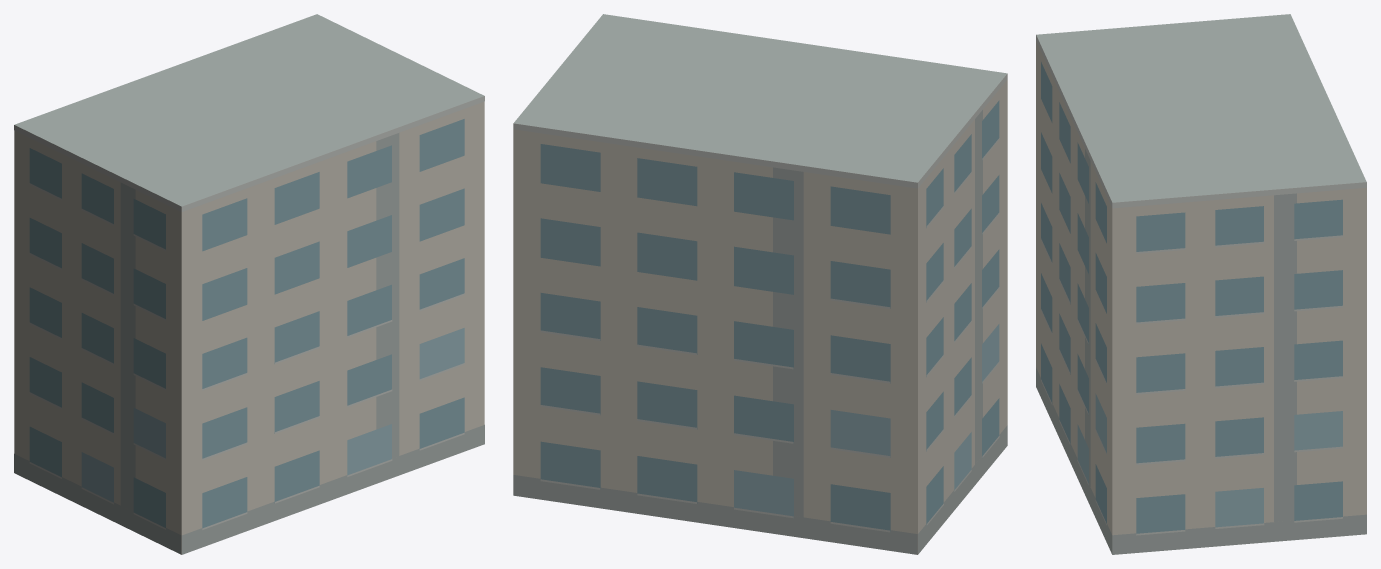
File: residential-e0737a31-0e31-47bd-801c-4a95fc2f8885.glb
3 views of the same model, side by side, from view 1: azimuth 30°, elevation 25°; view 2: azimuth 150°, elevation 25°; view 3: azimuth 270°, elevation 25° (orthographic). The views are drawn at different scales.
Parts seen in each view (by area): view 1: residential-e0737a31-0e31-47bd-801c-4a95fc2f8885.tmp; view 2: residential-e0737a31-0e31-47bd-801c-4a95fc2f8885.tmp; view 3: residential-e0737a31-0e31-47bd-801c-4a95fc2f8885.tmp.
Boxes of the visible parts, x1,y1,x2,y2 form: residential-e0737a31-0e31-47bd-801c-4a95fc2f8885.tmp: (14, 14, 484, 554); residential-e0737a31-0e31-47bd-801c-4a95fc2f8885.tmp: (513, 14, 1007, 554); residential-e0737a31-0e31-47bd-801c-4a95fc2f8885.tmp: (1036, 14, 1366, 554).
Size of the model in its own units: 17.54 by 15.25 by 12.99.
